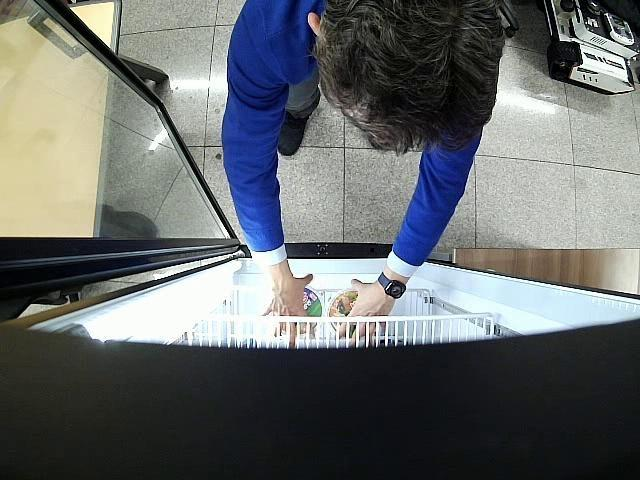09_yukGaeJang: (281, 286, 324, 334), (327, 288, 356, 338)
